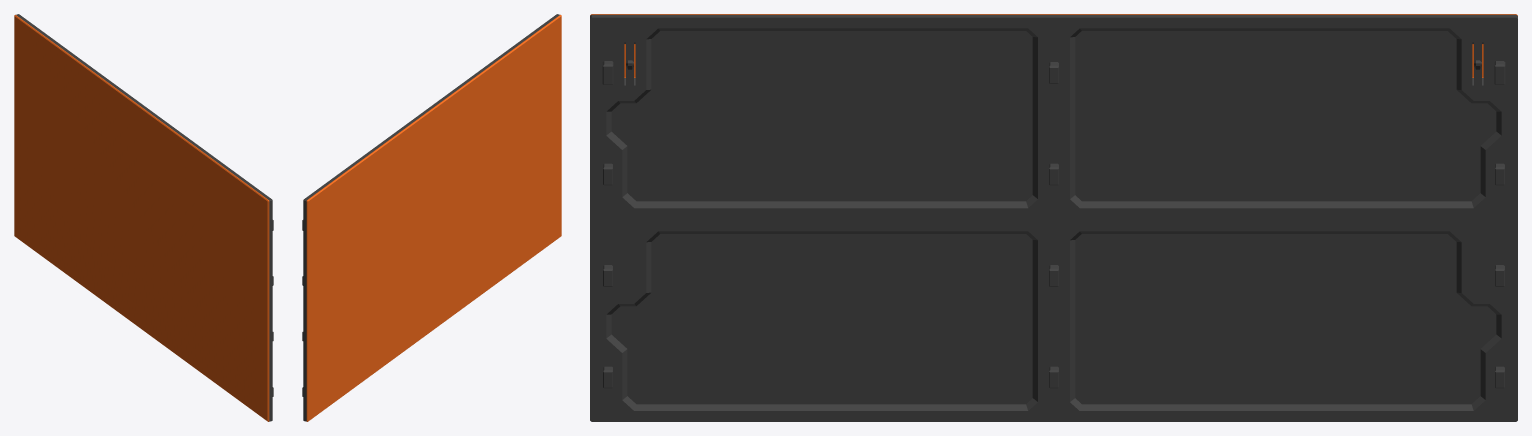
Rendered from SideCover_240-2H.lib.glb.
The picture shows the model from 3 angles, left to right: view 1: azimuth 30°, elevation 25°; view 2: azimuth 150°, elevation 25°; view 3: azimuth 270°, elevation 25°; orthographic projection. The views are drawn at different scales.
Visible parts, largest first — view 1: SideCover_240-2H; view 2: SideCover_240-2H; view 3: SideCover_240-2H.
Part boxes in pixels (x1,y1,x2,y2): SideCover_240-2H: (14,14,273,421); SideCover_240-2H: (302,14,561,421); SideCover_240-2H: (590,14,1517,421).
Bounding box in the file's own units: 5.04 × 112 × 232.
